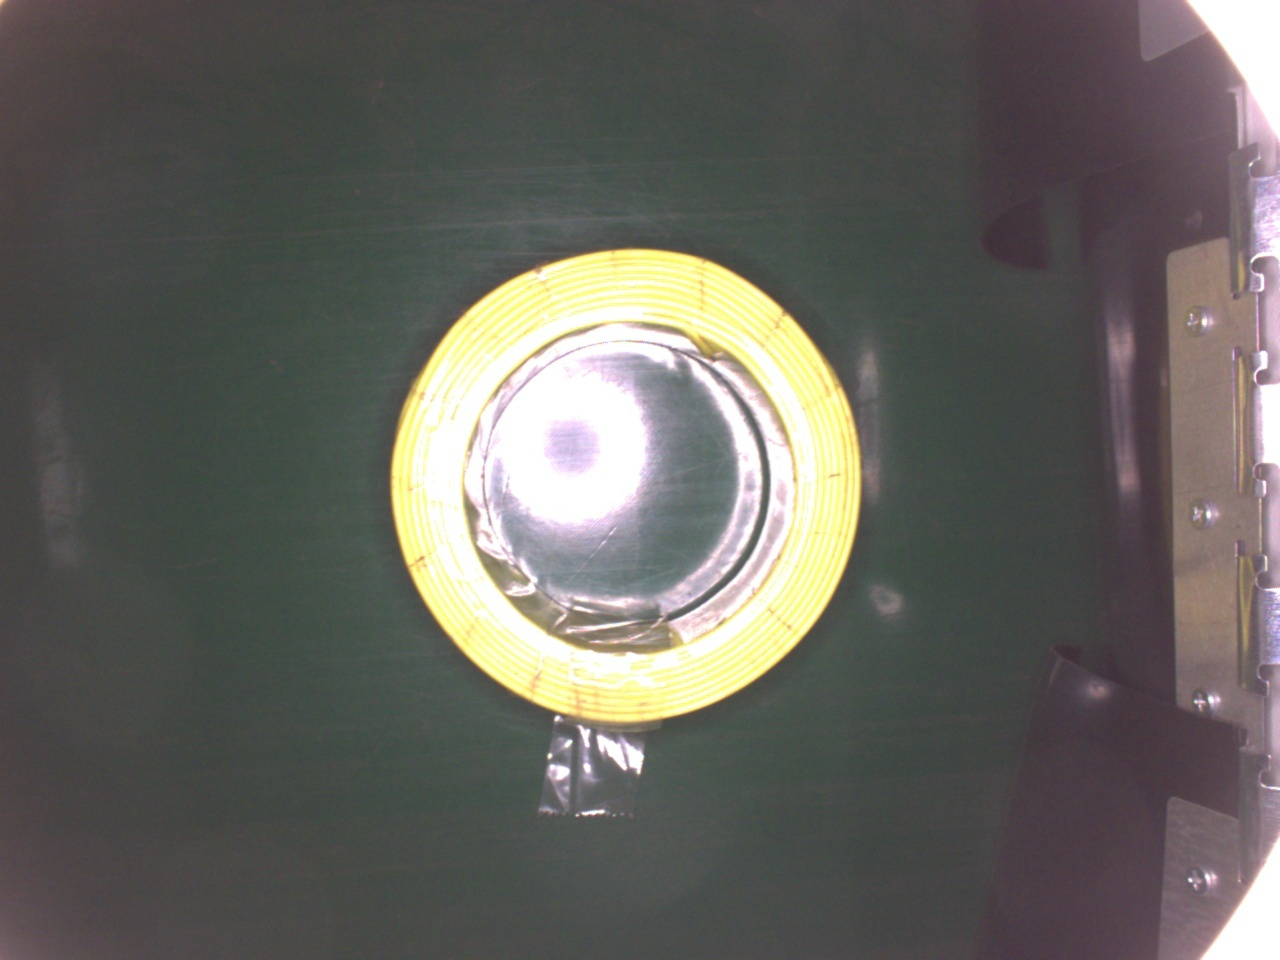yellow: (391, 235, 858, 723)
